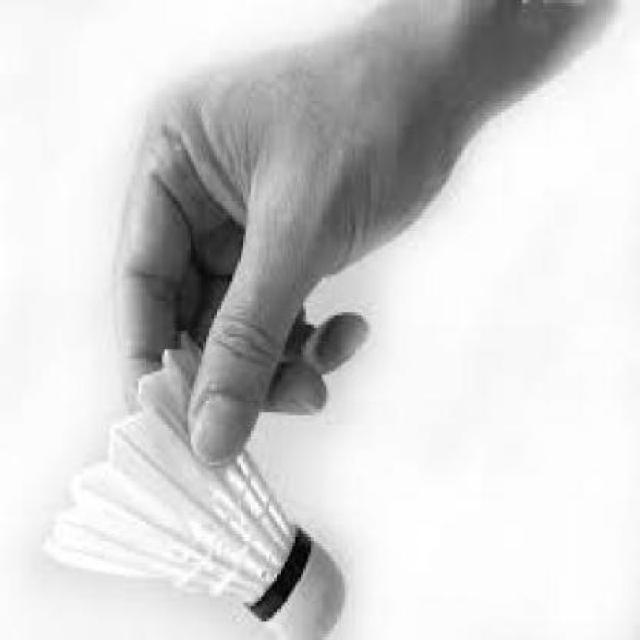Shuttlecock: (39, 334, 348, 640)
